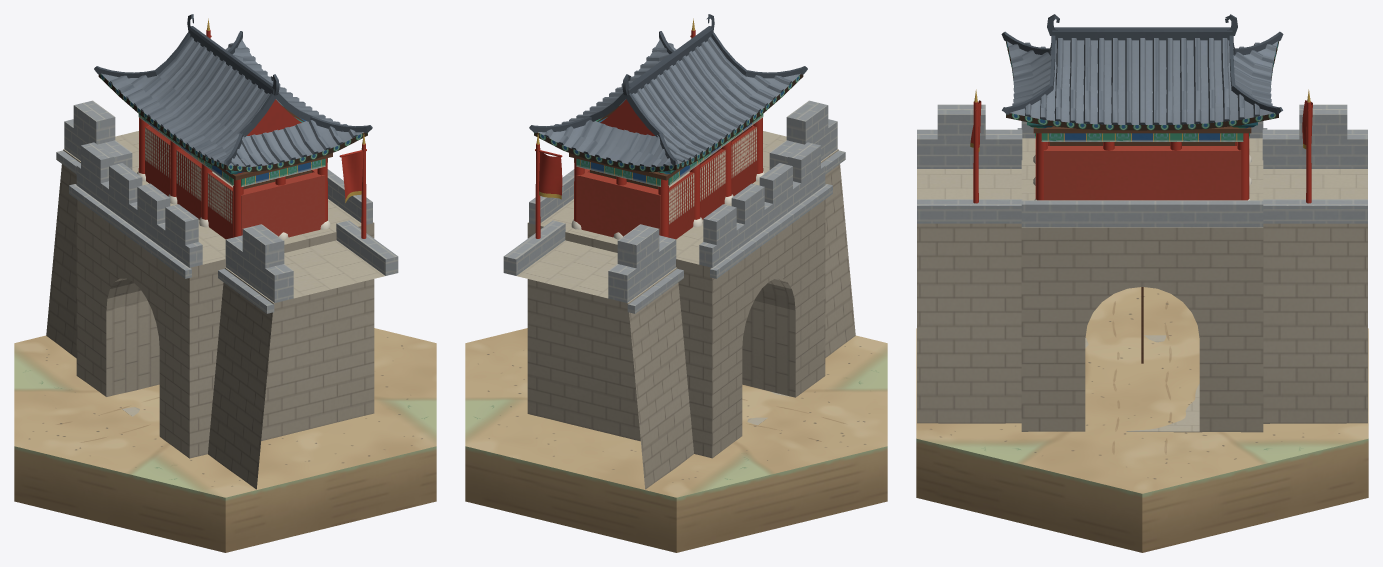
Rendered from Hex_Gate.glb.
3 renders of one model, left to right at view 1: azimuth 30°, elevation 25°; view 2: azimuth 150°, elevation 25°; view 3: azimuth 270°, elevation 25°, orthographic. The views are drawn at different scales.
Visible parts, largest first — view 1: Hex_Gate; view 2: Hex_Gate; view 3: Hex_Gate.
Part boxes in pixels (x1=…): Hex_Gate: x1=14, y1=14, x2=436, y2=552; Hex_Gate: x1=465, y1=14, x2=887, y2=552; Hex_Gate: x1=916, y1=14, x2=1368, y2=552.
Bounding box in the file's own units: 8 × 7.31 × 6.93.
2 materials, 2 textured.
